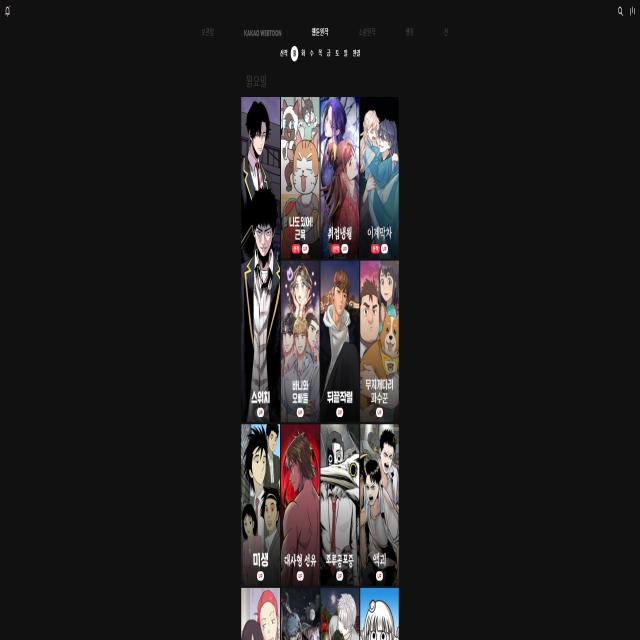menu-bar: (612, 2, 636, 24)
search: (614, 4, 626, 20)
tab-bar: (199, 18, 453, 40), (279, 45, 363, 62)
